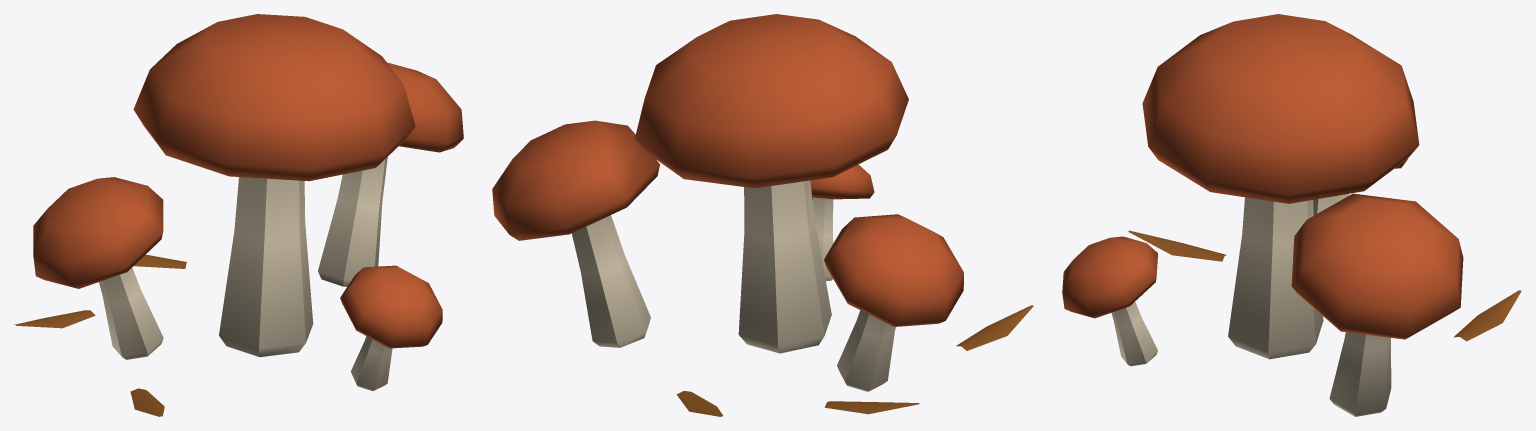
The model's file is mushrooms.glb.
3 views of the same model, side by side, from view 1: azimuth 30°, elevation 25°; view 2: azimuth 150°, elevation 25°; view 3: azimuth 270°, elevation 25° (orthographic). The views are drawn at different scales.
Visible parts, largest first — view 1: Mushrooms Mushroom cap, Mushrooms Mushroom stem, Mushrooms Leaf litter; view 2: Mushrooms Mushroom cap, Mushrooms Mushroom stem, Mushrooms Leaf litter; view 3: Mushrooms Mushroom cap, Mushrooms Mushroom stem, Mushrooms Leaf litter.
Boxes of the visible parts, x1,y1,x2,y2 form: Mushrooms Mushroom cap: [33, 14, 463, 348]; Mushrooms Mushroom stem: [99, 157, 392, 391]; Mushrooms Leaf litter: [14, 254, 186, 416]; Mushrooms Mushroom cap: [492, 14, 963, 326]; Mushrooms Mushroom stem: [571, 180, 895, 391]; Mushrooms Leaf litter: [676, 305, 1033, 416]; Mushrooms Mushroom cap: [1062, 14, 1463, 339]; Mushrooms Mushroom stem: [1111, 194, 1391, 416]; Mushrooms Leaf litter: [1128, 230, 1521, 341].
Size of the model in its own units: 0.5967 by 0.405 by 0.5464.
